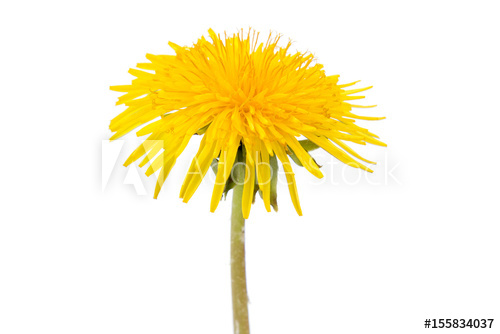dandelion: (112, 30, 387, 206)
